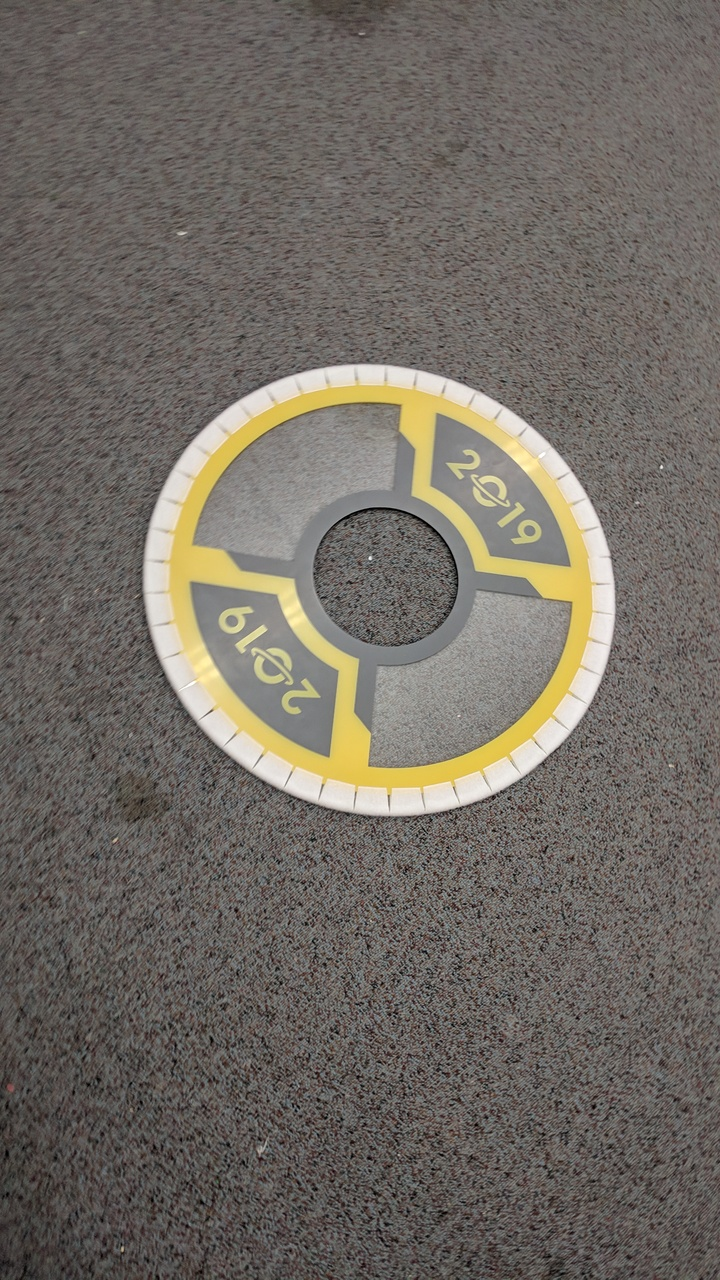hatch_panel: (134, 360, 627, 818)
